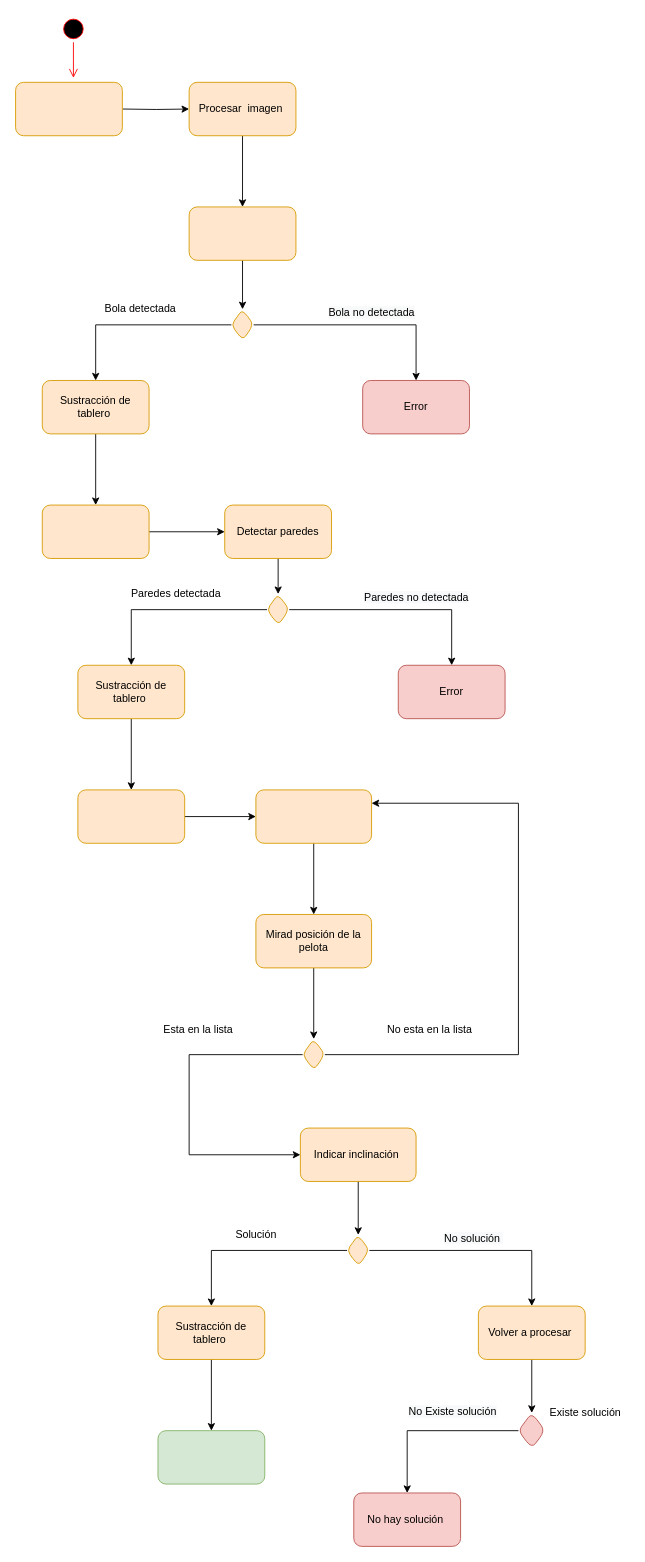
Some shapes in this 645 by 1562 pixel diagram are drawn without their labels. Here are the shapes that lost their labels. From the top down, the centre of each, then its label:
the point at 68,108: Obtener imagen
the point at 242,233: Localizar bola
the point at 95,531: Leer el tablero
the point at 131,816: Detección de Objetos
the point at 313,816: Generar camino
the point at 211,1457: Fin
